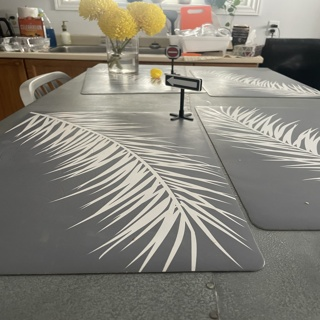sign_noentry: (166, 43, 177, 58)
sign_oneway_left: (166, 72, 201, 91)
